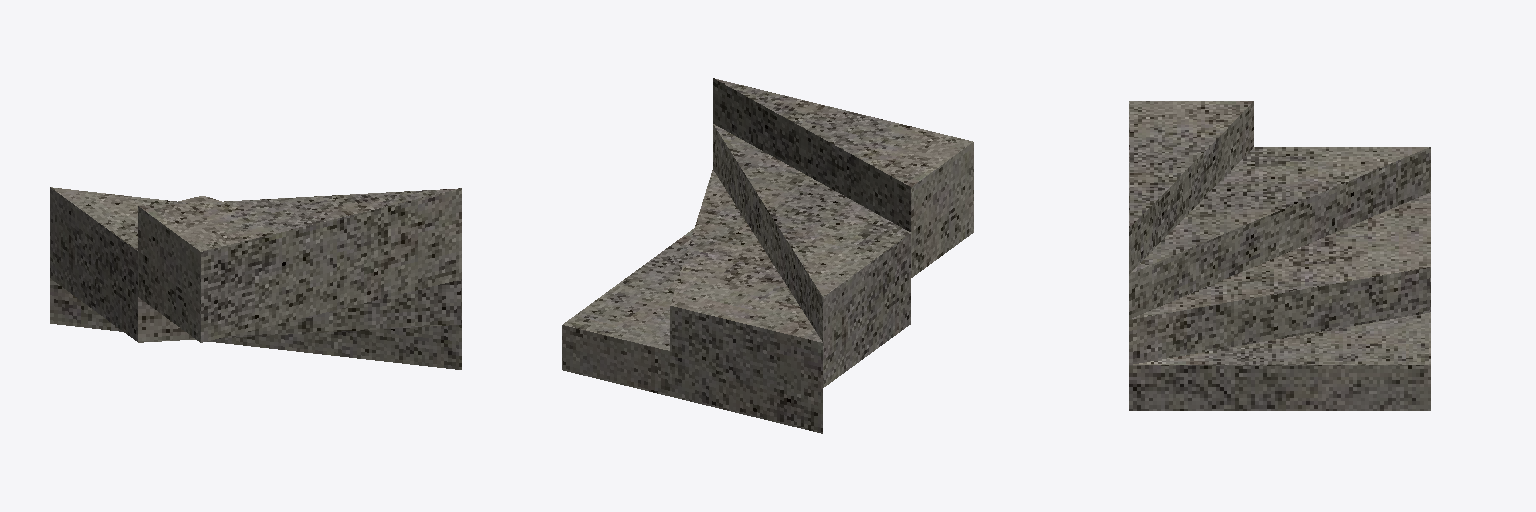
3 views of the same model, side by side, from view 1: azimuth 30°, elevation 25°; view 2: azimuth 150°, elevation 25°; view 3: azimuth 270°, elevation 25° (orthographic).
Size of the model in its own units: 1 by 0.6667 by 1.
1 materials, 1 textured.